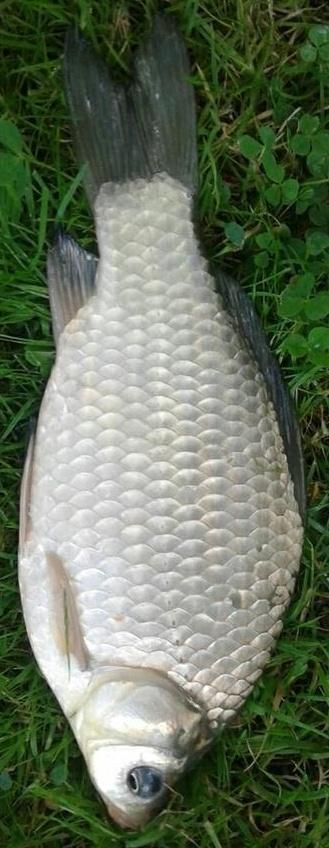Silver Barb: (0, 0, 329, 846)
